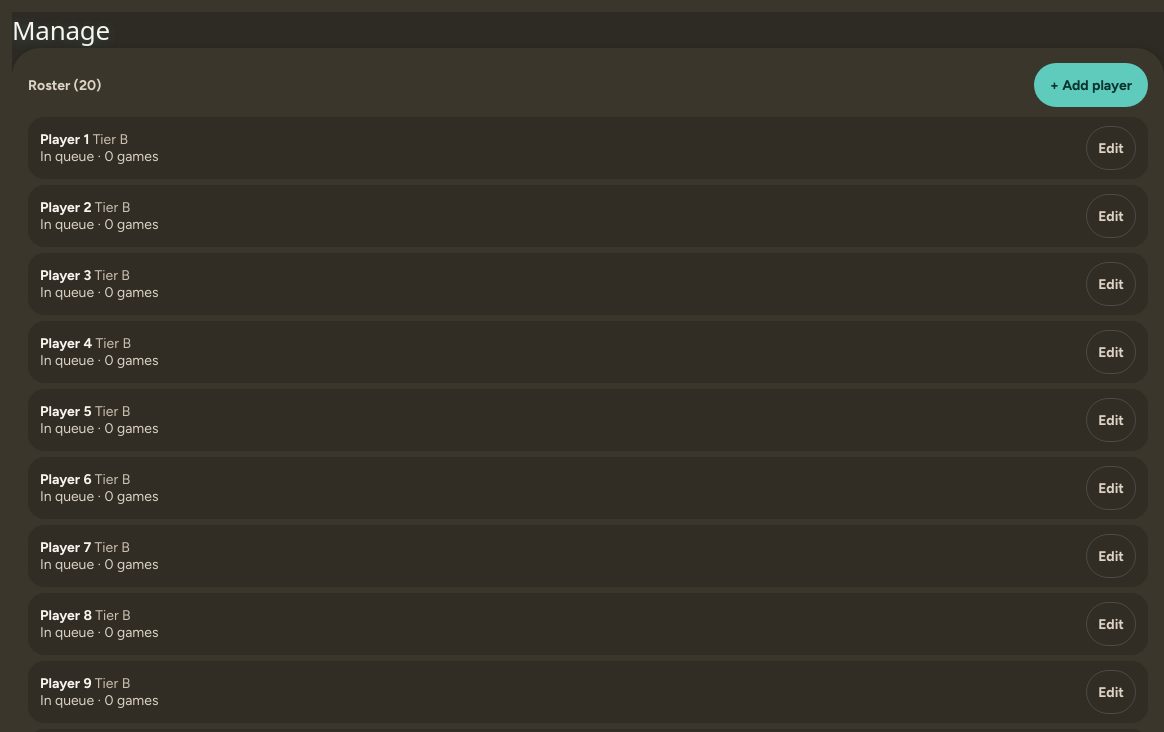
it: ManageTab + Add player › keeps Paste a list instead reachable from the opened form, and focuses its box
The width and height of the screenshot is (1164, 732).
Click the button "+ Add player". click: x=1091, y=85
box: [1034,63,1148,107]
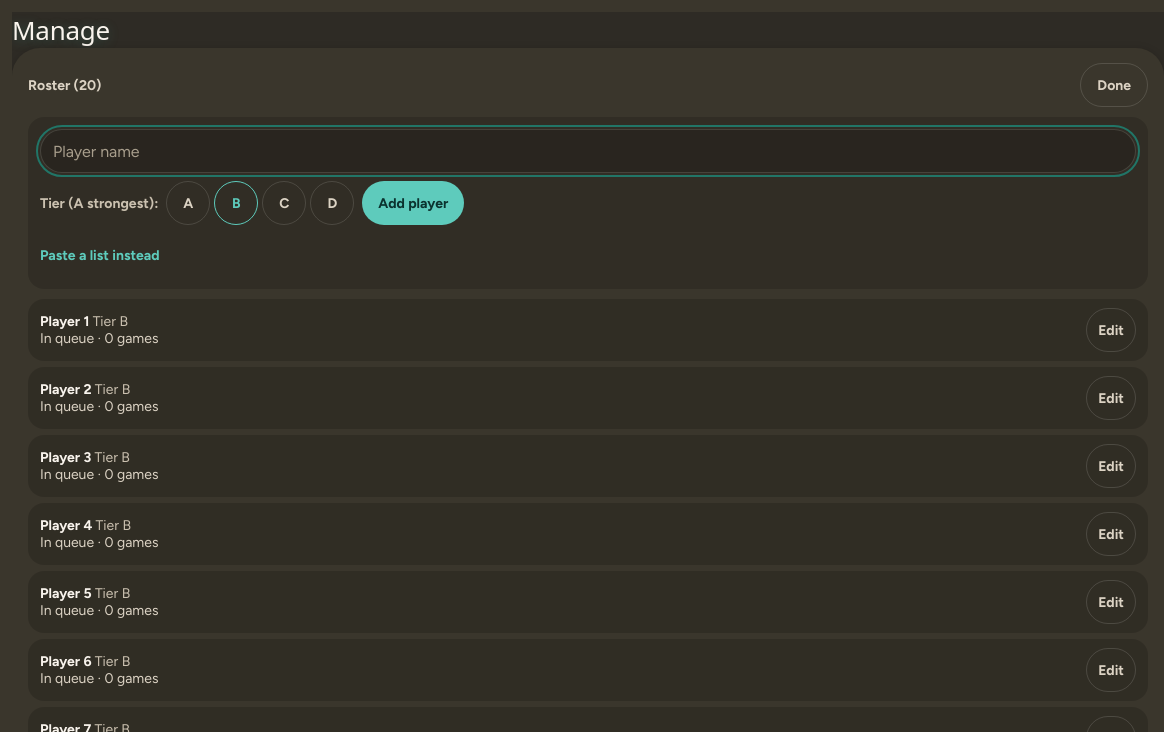
Click the button "Paste a list instead". click: x=100, y=255
box: [40,233,160,277]
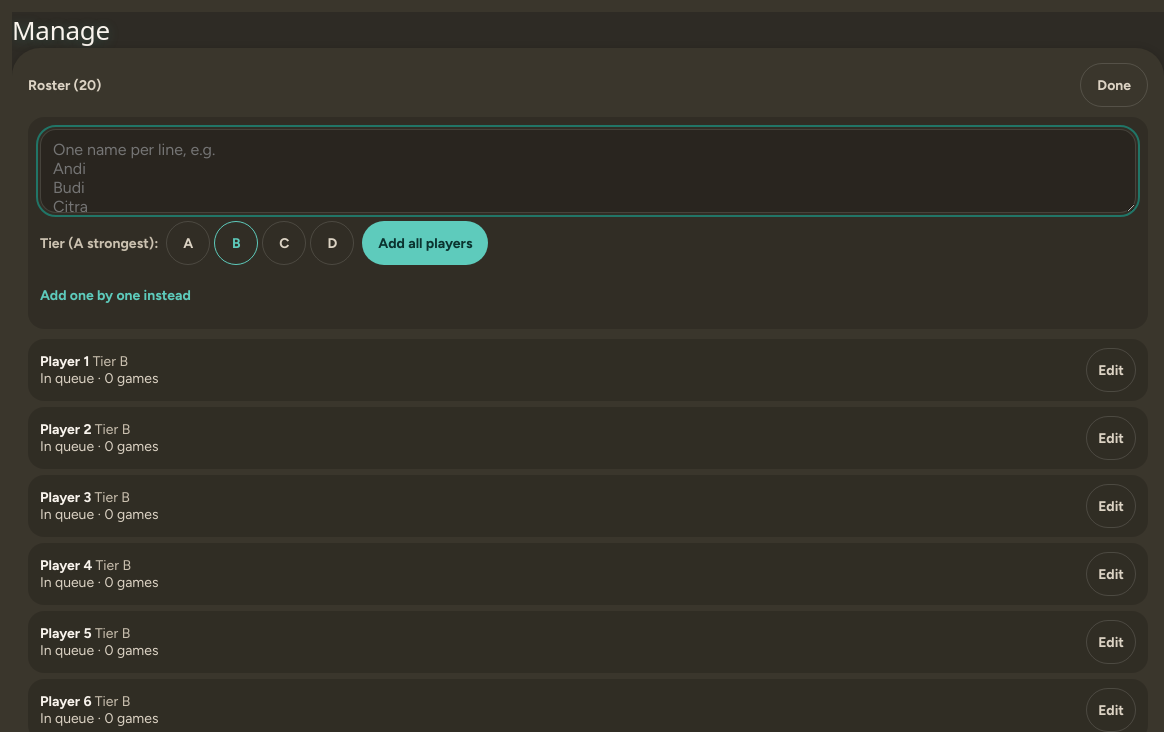
Expected: the button "Add one by one instead" is shown, [40,273,191,317]
